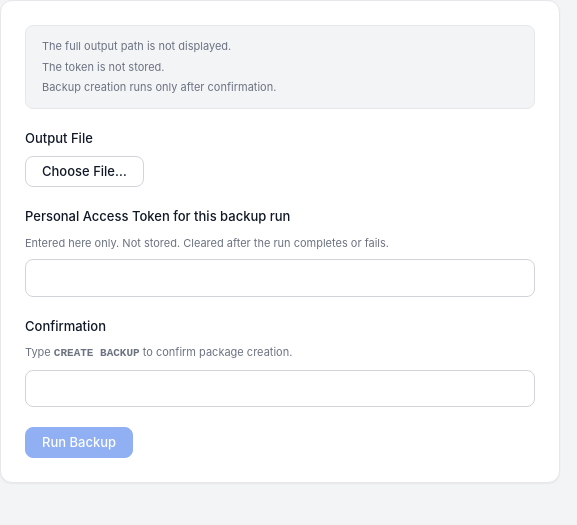
BackupExecutionPanel cancel button › cancel button appears while running
Click the button with test id "pick-output-path-button".
click(84, 172)  # box [25,156,144,187]
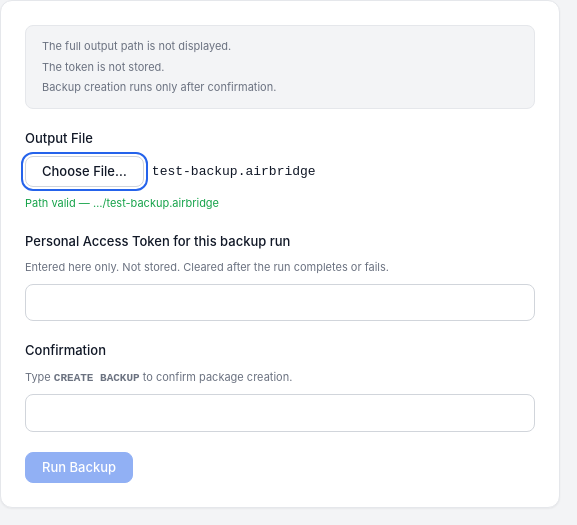
Expected: the text "Path valid — …/test-backup.airbridge" is shown, [25,196,219,210]
Type "pat_test_token_for_progress" into the password field with test id "backup-token-input".
click(280, 302); type("pat_test_token_for_progress")  # box [25,284,535,321]
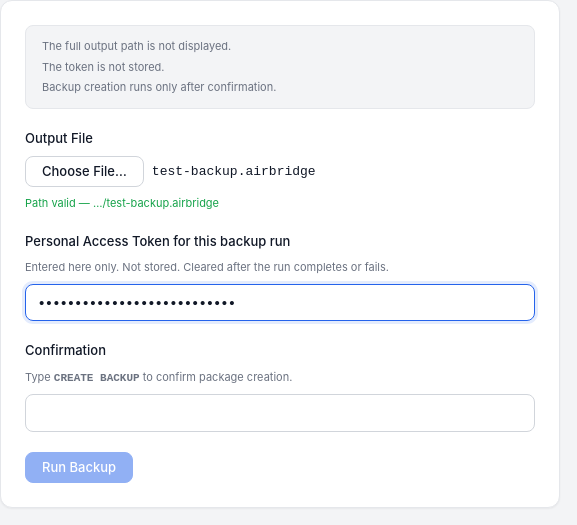
Type "CREATE BACKUP" into the field with test id "backup-confirmation-input".
click(280, 413); type("CREATE BACKUP")  # box [25,394,535,432]
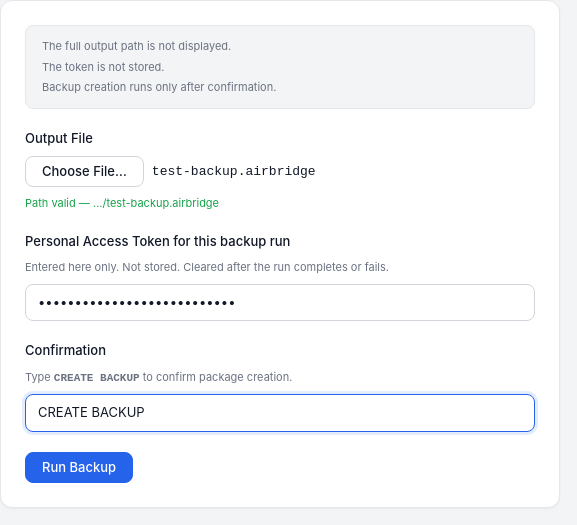
Click the button with test id "run-backup-button".
click(79, 467)  # box [25,452,133,482]
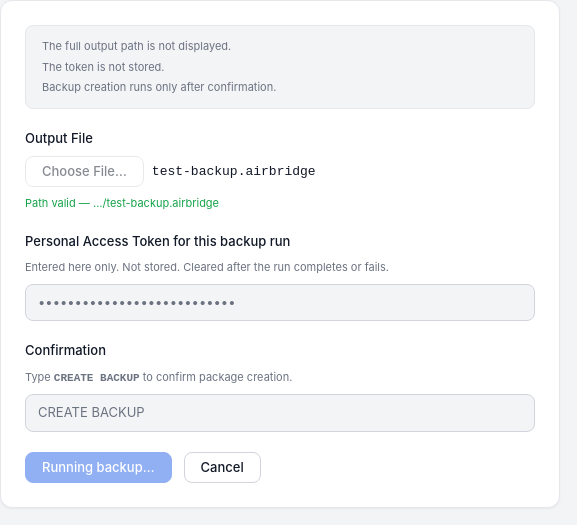
Expected: the button with test id "cancel-backup-button" is shown, [184,452,261,482]
